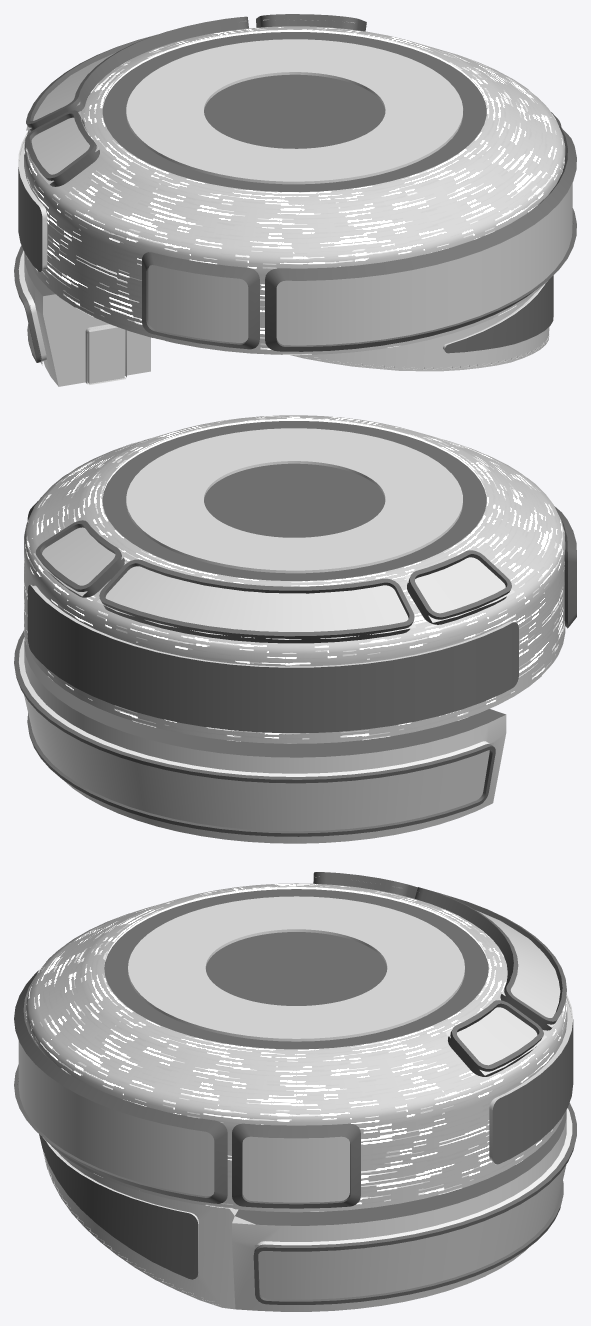
3 renders of one model, top to bottom at view 1: azimuth 30°, elevation 25°; view 2: azimuth 150°, elevation 25°; view 3: azimuth 270°, elevation 25°, orthographic.
Parts seen in each view (by area): view 1: Base, Glass_02, Window_frame_02, Window_frame_03, Glass_03, Window_frame_01; view 2: Base, Glass_01, Glass_03, Window_frame_03, Window_frame_01, Window_frame_02; view 3: Base, Glass_02, Glass_01, Window_frame_02, Window_frame_03, Window_frame_01, Glass_03.
Boxes of the visible parts, bbox=[...] form: Base: bbox=[18, 26, 565, 386]; Glass_02: bbox=[148, 183, 572, 345]; Window_frame_02: bbox=[142, 112, 576, 351]; Window_frame_03: bbox=[25, 14, 366, 186]; Glass_03: bbox=[26, 19, 366, 184]; Window_frame_01: bbox=[14, 245, 46, 362]; Base: bbox=[24, 415, 565, 843]; Glass_01: bbox=[24, 695, 493, 831]; Glass_03: bbox=[33, 520, 514, 639]; Window_frame_03: bbox=[35, 520, 511, 643]; Window_frame_01: bbox=[14, 630, 495, 836]; Window_frame_02: bbox=[27, 501, 576, 628]; Base: bbox=[25, 883, 573, 1311]; Glass_02: bbox=[18, 1040, 349, 1202]; Glass_01: bbox=[254, 1165, 566, 1300]; Window_frame_02: bbox=[14, 970, 360, 1208]; Window_frame_03: bbox=[313, 872, 566, 1076]; Window_frame_01: bbox=[253, 1103, 576, 1304]; Glass_03: bbox=[315, 876, 560, 1075].
Size of what is drawn, in the model's own units: 2625 by 1260 by 2650.
